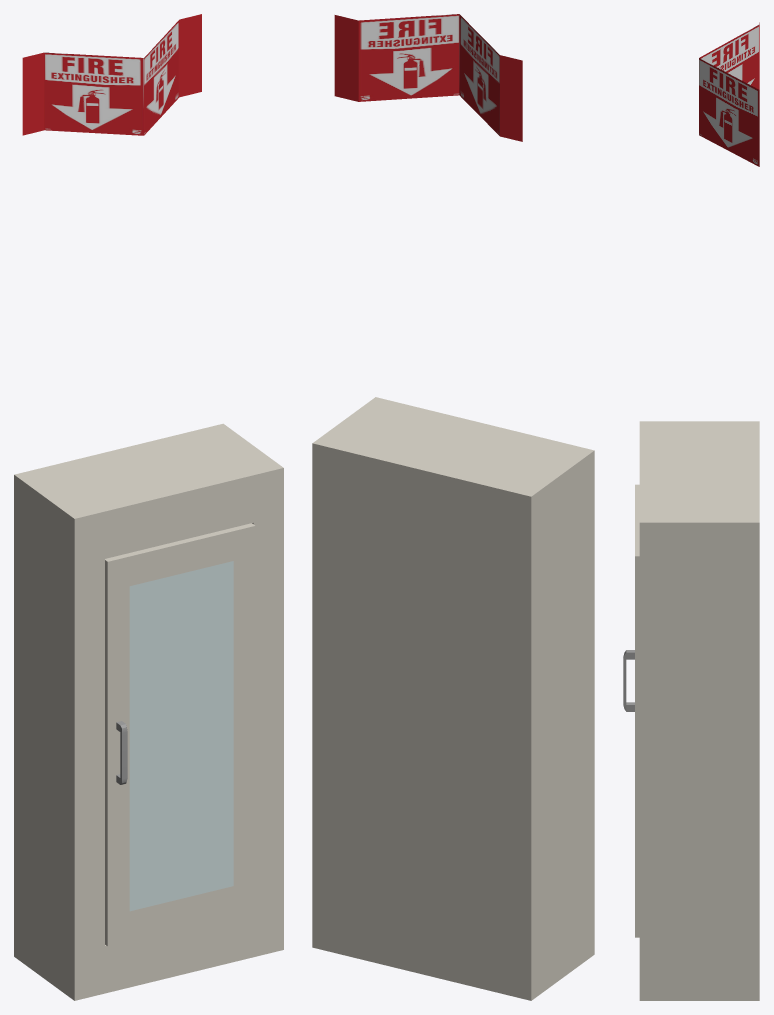
File: fire_extinguisher.fbx
3 renders of one model, left to right at view 1: azimuth 30°, elevation 25°; view 2: azimuth 150°, elevation 25°; view 3: azimuth 270°, elevation 25°, orthographic. The views are drawn at different scales.
Parts seen in each view (by area): view 1: box1, door, sign; view 2: box1, sign; view 3: box1, sign, door, handle.
Part boxes in pixels (bbox=[...]): box1: bbox=[14, 423, 283, 1000]; door: bbox=[105, 523, 255, 946]; sign: bbox=[22, 14, 201, 135]; box1: bbox=[312, 397, 594, 1000]; sign: bbox=[334, 14, 522, 141]; box1: bbox=[639, 421, 759, 1000]; sign: bbox=[699, 22, 759, 166]; door: bbox=[635, 484, 639, 937]; handle: bbox=[623, 650, 634, 711].
Bounding box in the file's own units: 5.32 × 21.81 × 3.03.
Materials: 9 (1 with a texture image).
